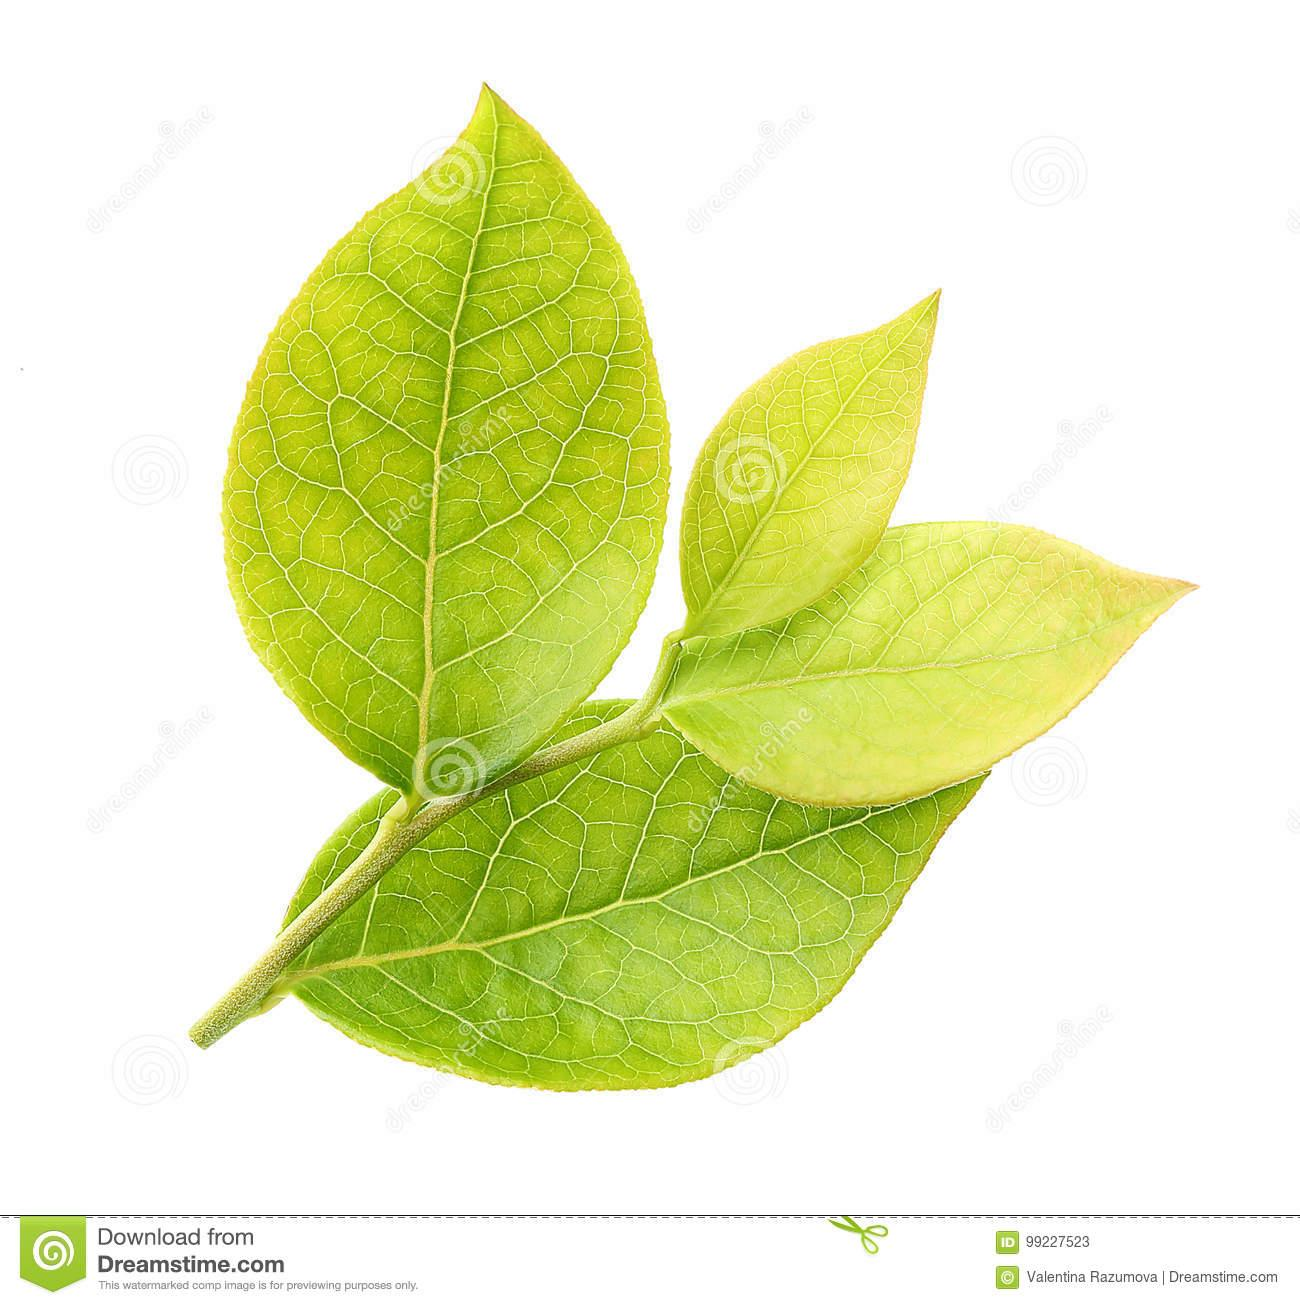Blueberry leaf: (217, 56, 631, 788), (660, 511, 1225, 812), (625, 177, 952, 686)
